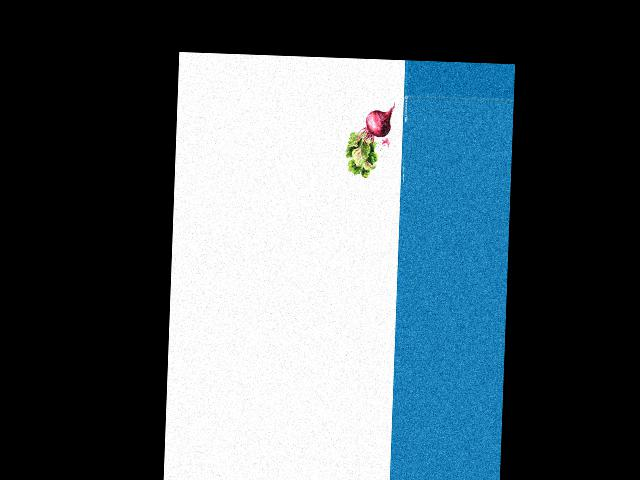beet: (345, 101, 395, 179)
